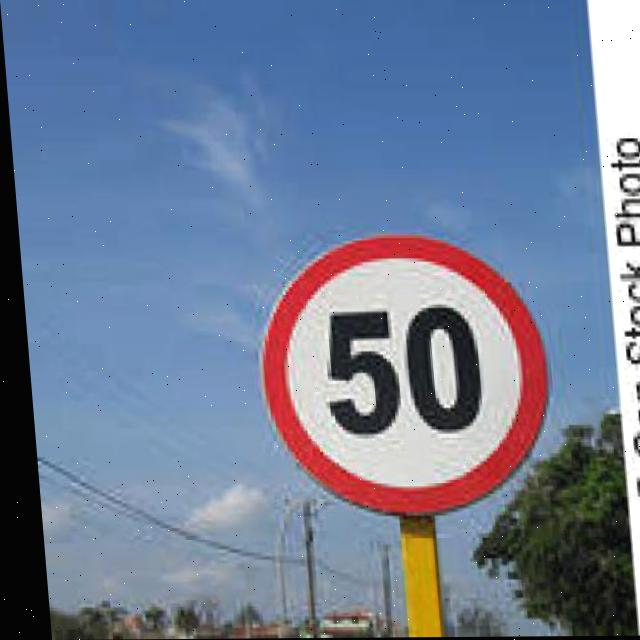Speed limit 50: (242, 230, 554, 519)
